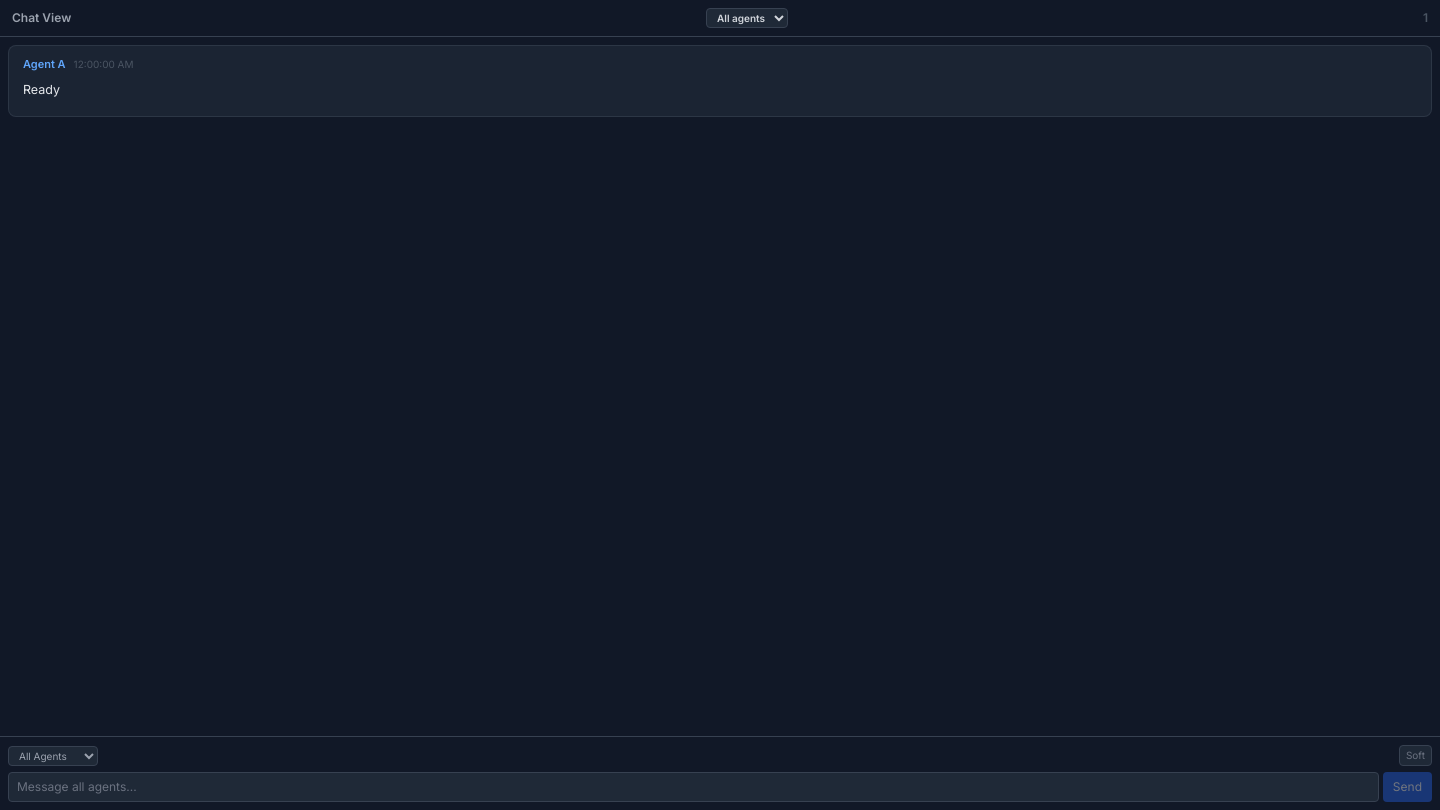
Test: ChatPanel client rendering contracts › sends the integrated broadcast payload for agent-targeted messages
(page scrolled)
Select "Agent" in the 2nd dropdown at (53, 756), box [8,746,98,766]
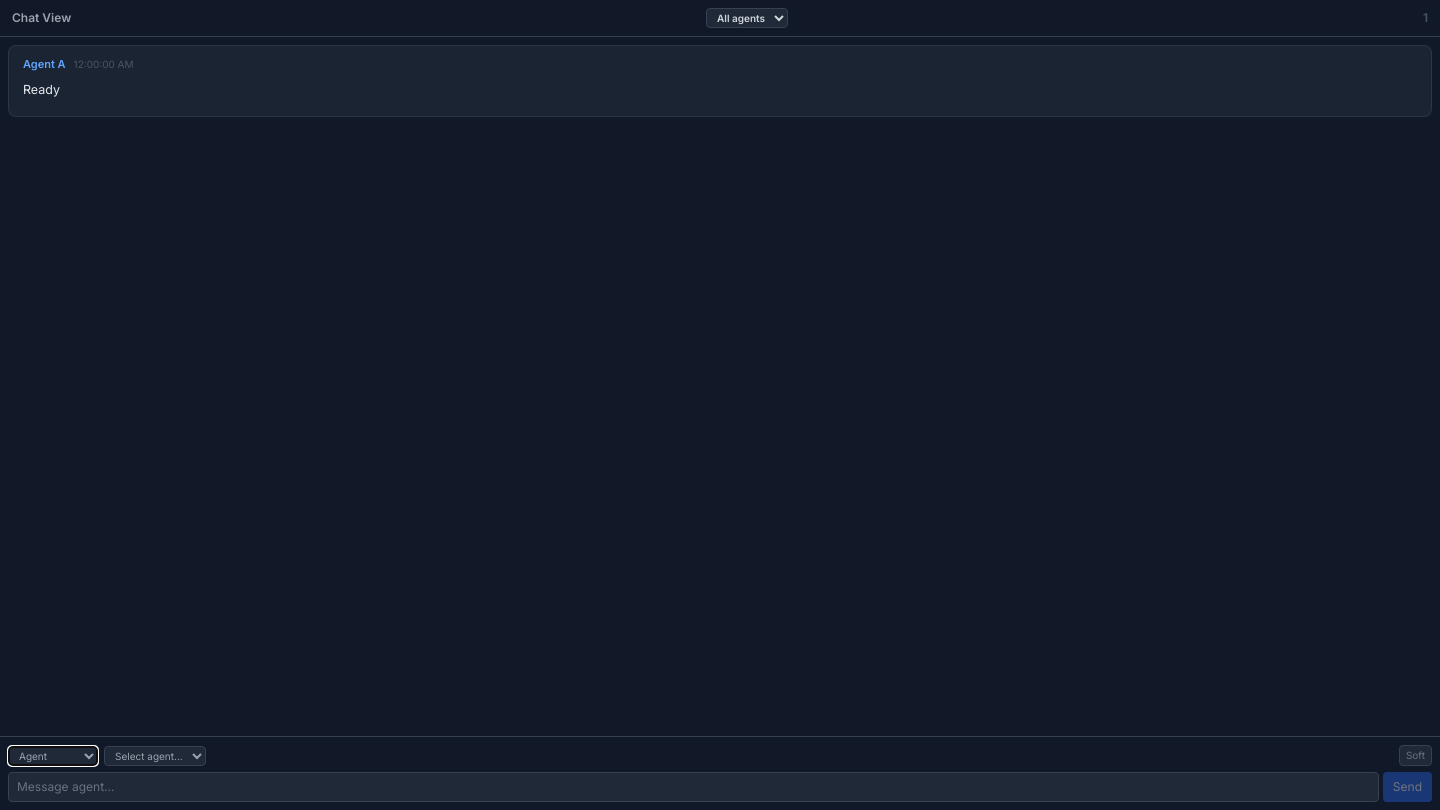
Select "Agent A" in the 3rd dropdown at (155, 756), box [104,746,206,766]
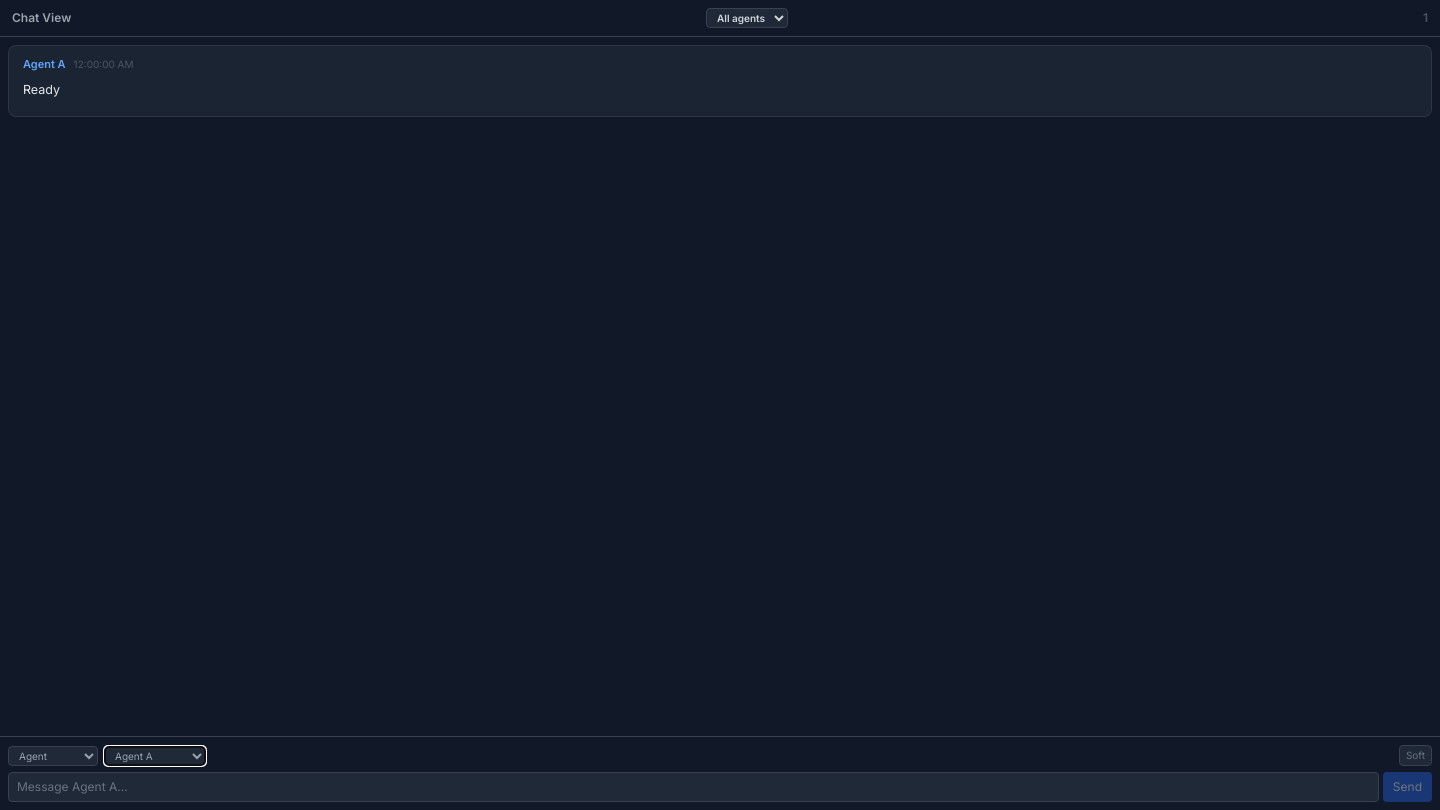
Type "Ping" into the field with placeholder "Message Agent A..." at (693, 787), box [8,772,1379,802]
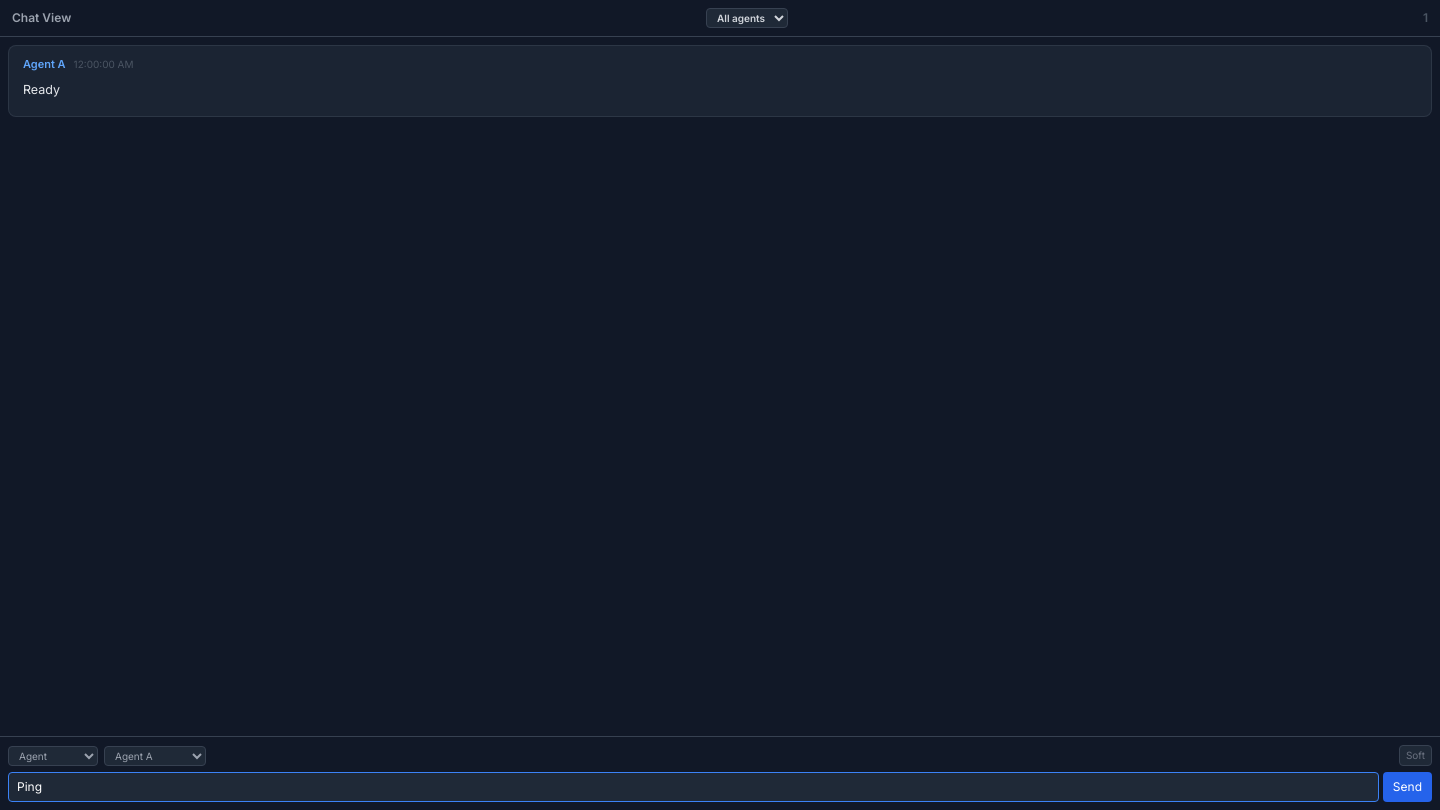
Click the button "Send" at (1407, 787), box [1383,772,1432,802]
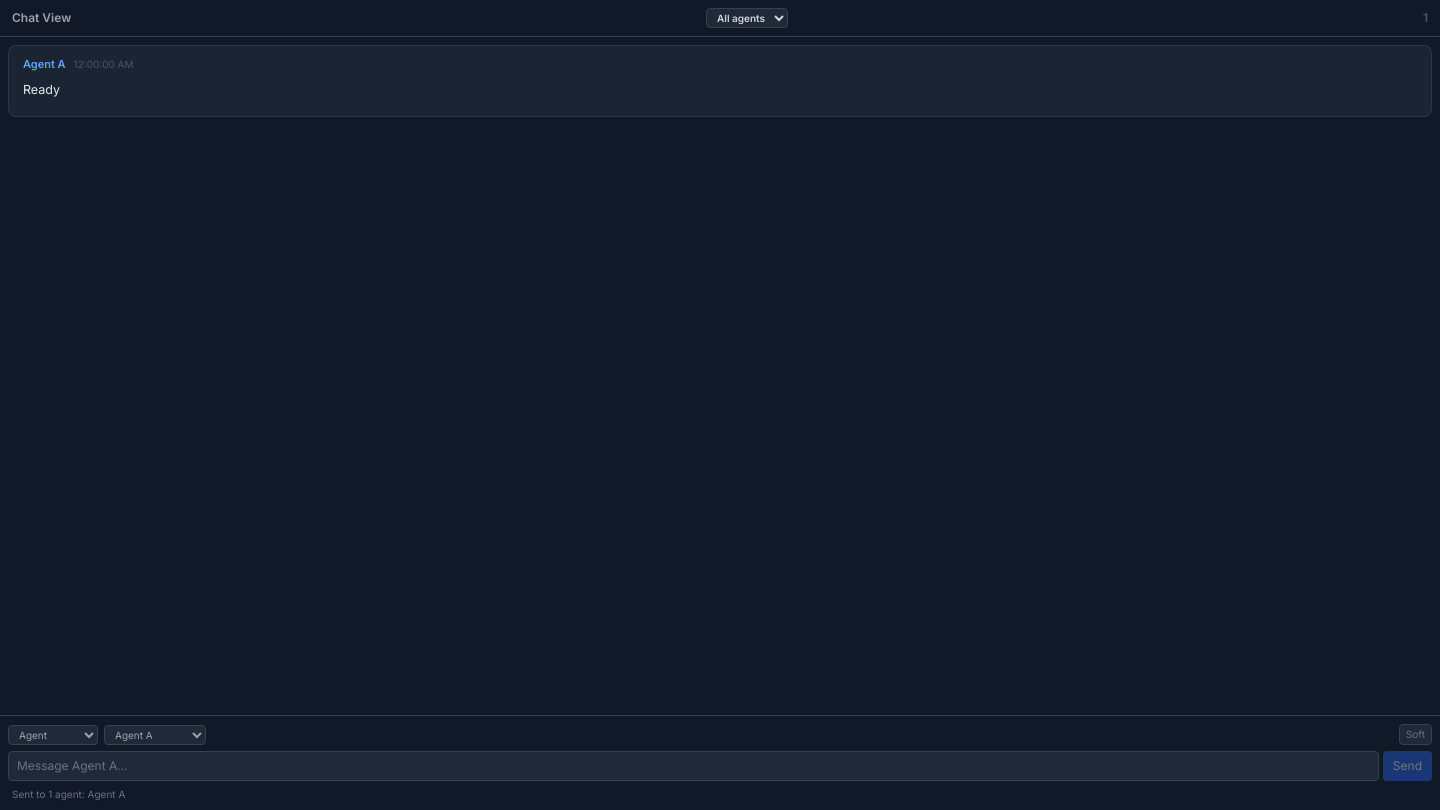
Now the text "Sent to 1 agent: Agent A" is shown, box [12,788,125,800]
